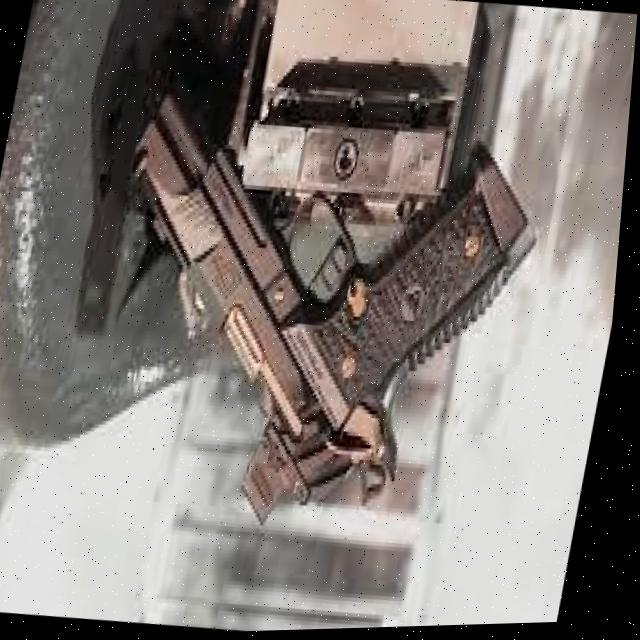gun: (133, 89, 537, 524)
